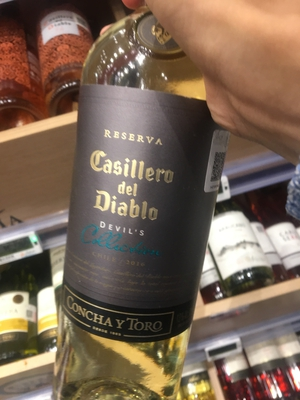casillero del diablo devils collection verde: (60, 64, 213, 400)
